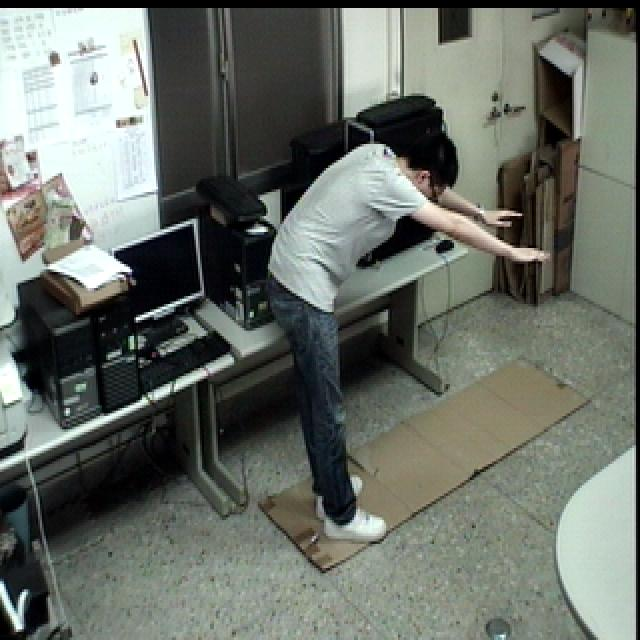bend: (262, 120, 556, 551)
